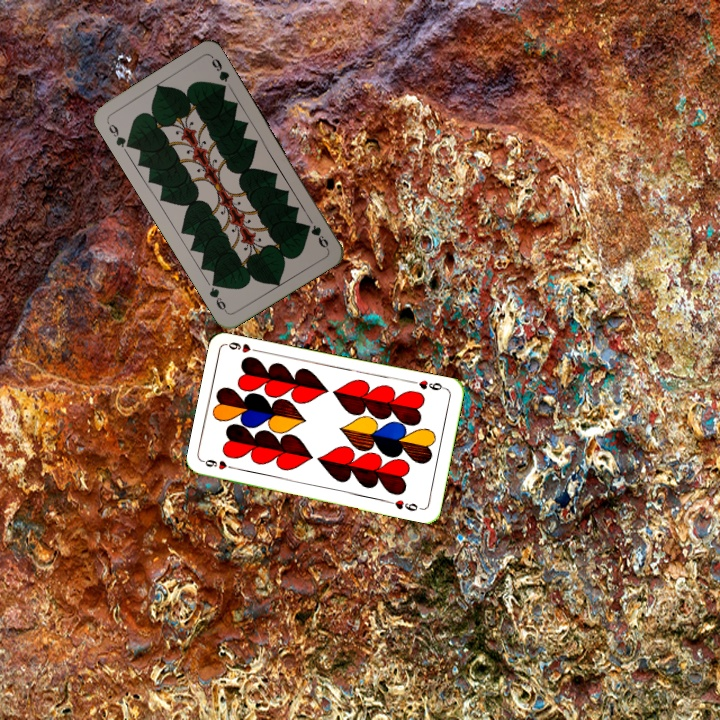G9: (103, 117, 135, 151), (307, 221, 331, 252)
H9: (200, 455, 240, 473), (408, 376, 449, 393)
